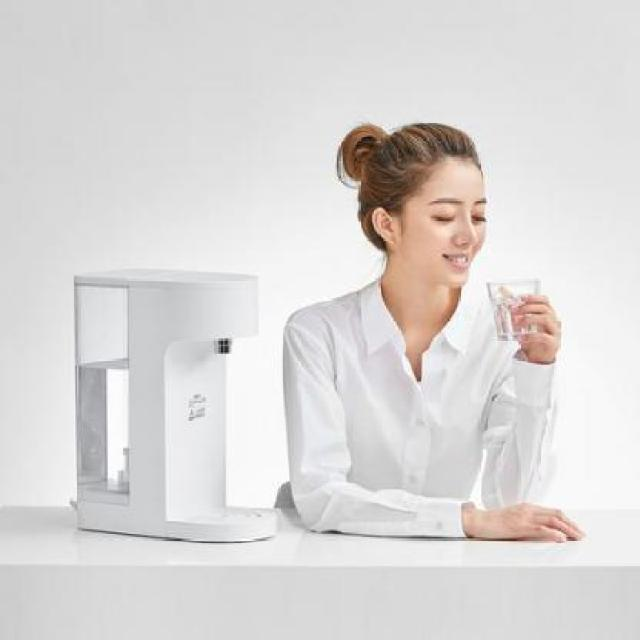cooler: (70, 266, 282, 548)
